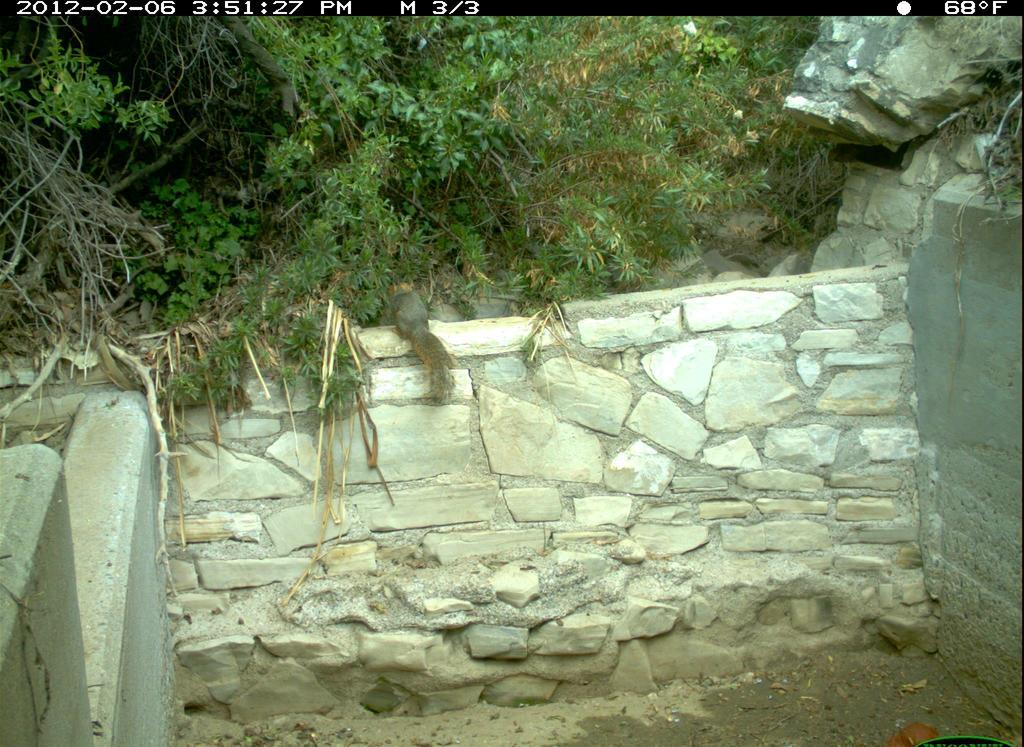squirrel: (383, 274, 465, 408)
